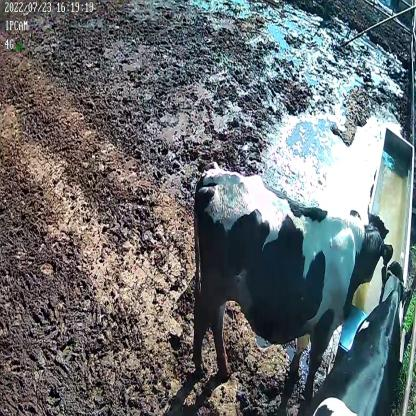cow: (191, 165, 394, 410), (299, 260, 413, 416)
